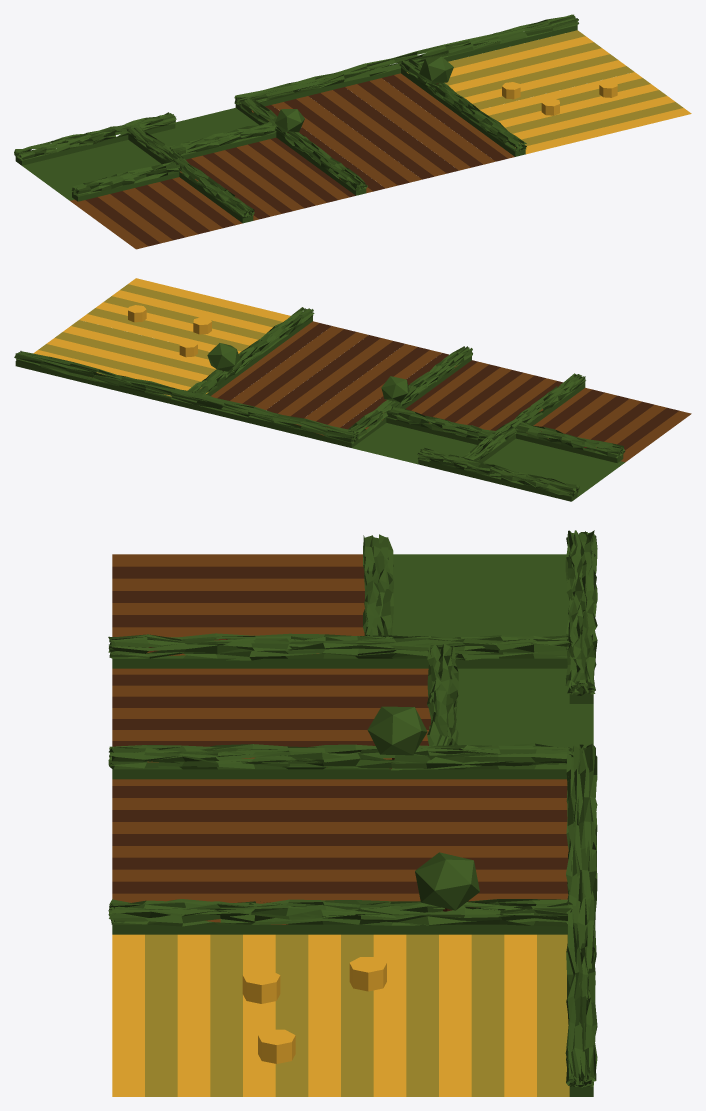
Rendered from fieldsB.glb.
3 renders of one model, top to bottom at view 1: azimuth 30°, elevation 25°; view 2: azimuth 150°, elevation 25°; view 3: azimuth 270°, elevation 25°, orthographic. The views are drawn at different scales.
Visible parts, largest first — view 1: H63, P10, H62, H24, H58, H38, H11, H23, P22, P30, P31, P35 (+44 smaller); view 2: H63, P10, H62, H24, H58, H38, P22, H11, H23, P41, P51, P42 (+43 smaller); view 3: H58, H38, H24, P10, H63, P22, P43, P52, P28, P26, P27, P30 (+43 smaller).
Boxes of the visible parts, x1,y1,x2,y2 form: H63: (234, 14, 578, 111); P10: (22, 140, 161, 200); H62: (14, 112, 176, 165); H24: (127, 125, 254, 223); H58: (399, 58, 526, 156); H38: (240, 98, 367, 195); H11: (71, 161, 180, 201); H23: (168, 122, 276, 159); P22: (135, 112, 259, 146); P30: (308, 93, 434, 179); P31: (321, 90, 446, 176); P35: (370, 78, 495, 164); H63: (14, 351, 358, 447); P10: (484, 438, 624, 496); H62: (417, 448, 579, 501); H24: (461, 373, 585, 461); H58: (188, 307, 314, 395); H38: (347, 346, 472, 443); P22: (358, 423, 479, 458); H11: (515, 421, 625, 463); H23: (386, 407, 496, 444); P41: (128, 278, 290, 321); P51: (46, 338, 208, 381); P42: (120, 284, 282, 327); H58: (108, 899, 572, 934); H38: (108, 743, 573, 779); H24: (108, 633, 572, 668); P10: (392, 554, 569, 658); H63: (565, 743, 597, 1096); P22: (455, 668, 569, 763); P43: (177, 934, 210, 1096); P52: (471, 934, 504, 1096); P28: (112, 810, 567, 821); P26: (112, 786, 567, 797); P27: (112, 798, 567, 809); P30: (112, 834, 567, 845).
Bounding box in the file's own units: 16.1 × 1.02 × 6.1.
